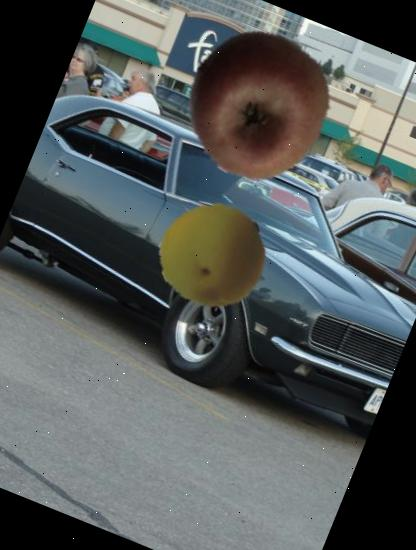Apple: (160, 8, 354, 202)
Peach: (142, 186, 283, 327)
